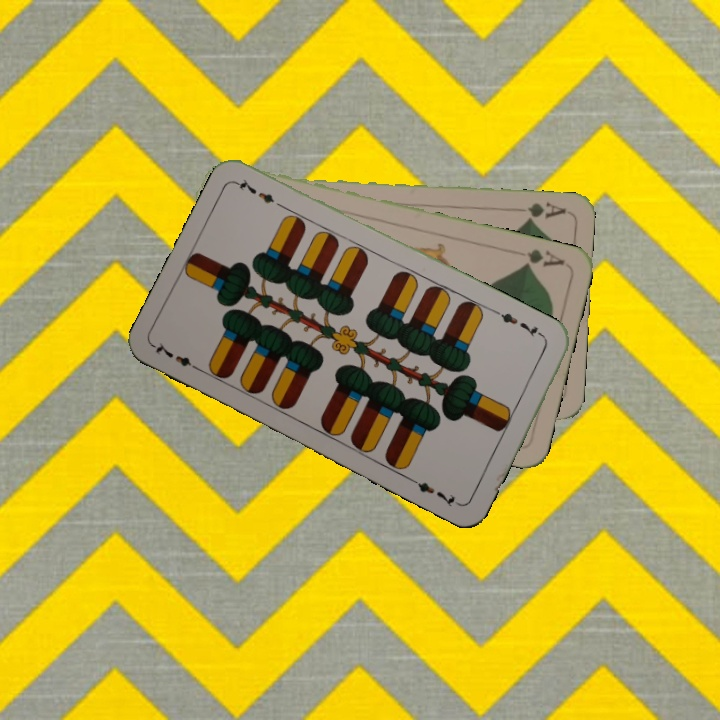E7: (150, 338, 205, 375), (493, 307, 548, 341)
GA: (510, 198, 568, 224), (510, 244, 567, 270)
